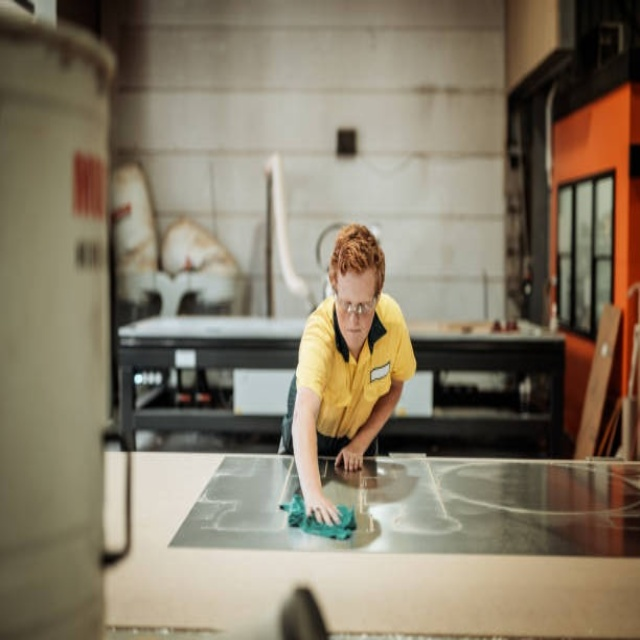Gafas: (334, 286, 379, 316)
Sin_guantes: (306, 497, 345, 528), (336, 446, 366, 473)
Sin_mascara: (343, 323, 366, 347)
